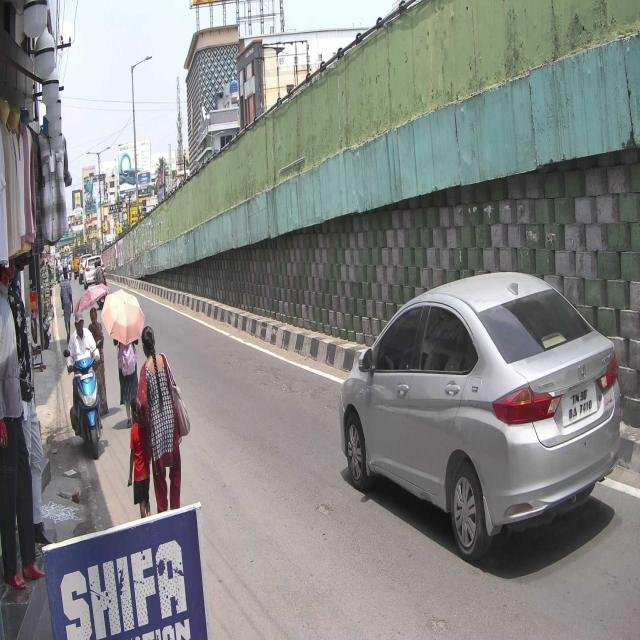single_rider: (66, 307, 104, 458)
